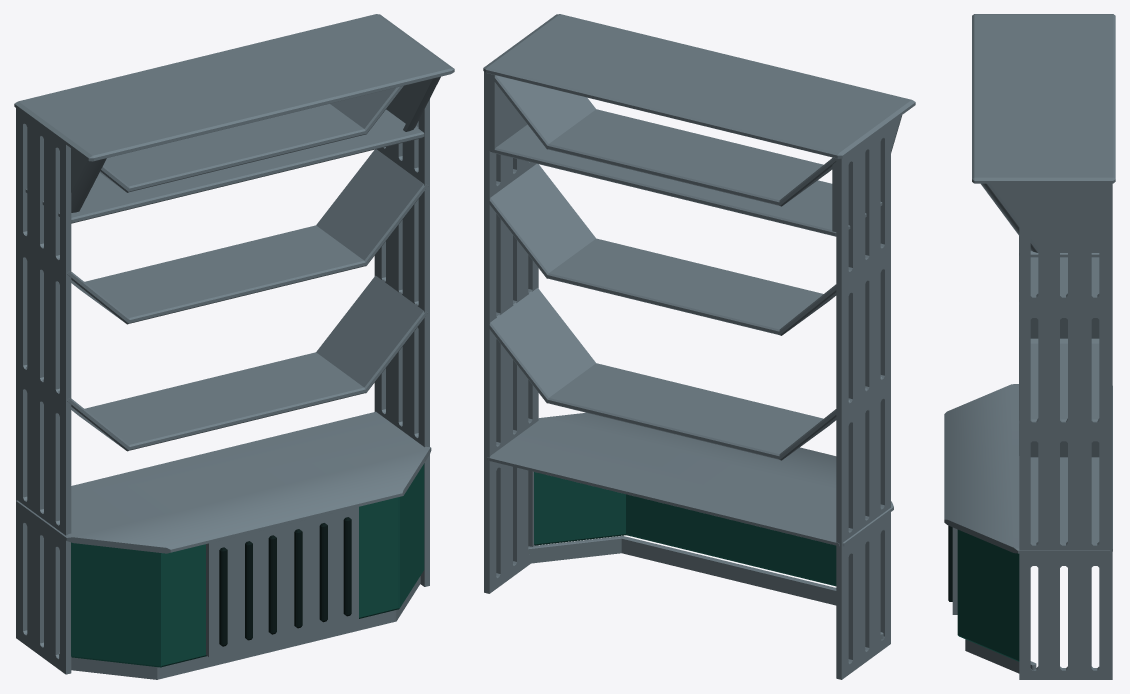
The model's file is sci fi bookshelf for bar.fbx.
The picture shows the model from 3 angles, left to right: view 1: azimuth 30°, elevation 25°; view 2: azimuth 150°, elevation 25°; view 3: azimuth 270°, elevation 25°; orthographic projection. The views are drawn at different scales.
Parts seen in each view (by area): view 1: pCube495; view 2: pCube495; view 3: pCube495.
Boxes of the visible parts, box(x1,y1,x2,y2) form: pCube495: box(14, 14, 454, 679); pCube495: box(483, 14, 915, 679); pCube495: box(944, 14, 1115, 679).
Size of the model in its own units: 588 by 823 by 255.
